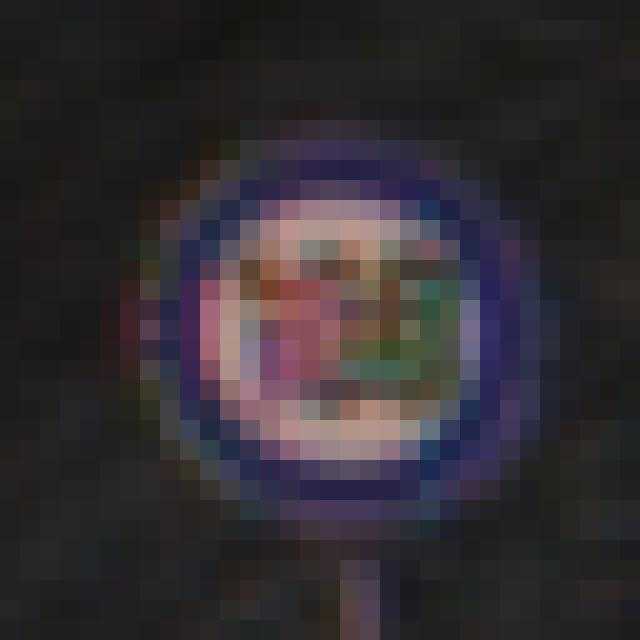SPEED LIMIT 100: (145, 145, 548, 539)
